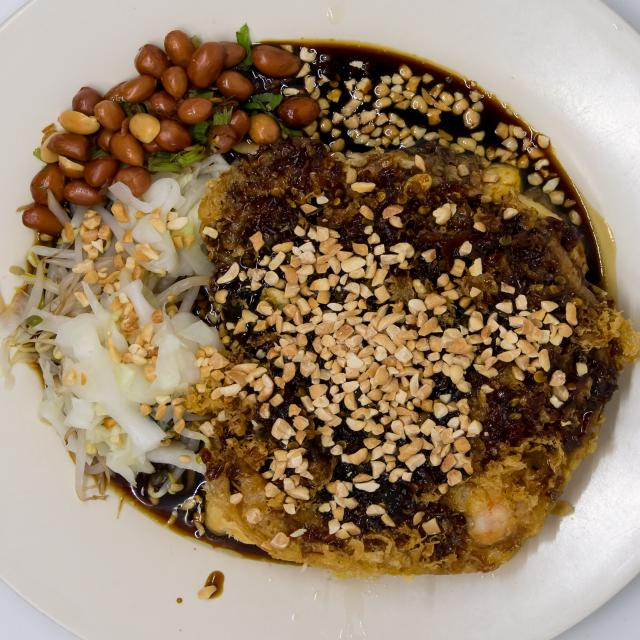Tahu-Telur: (17, 16, 616, 600)
